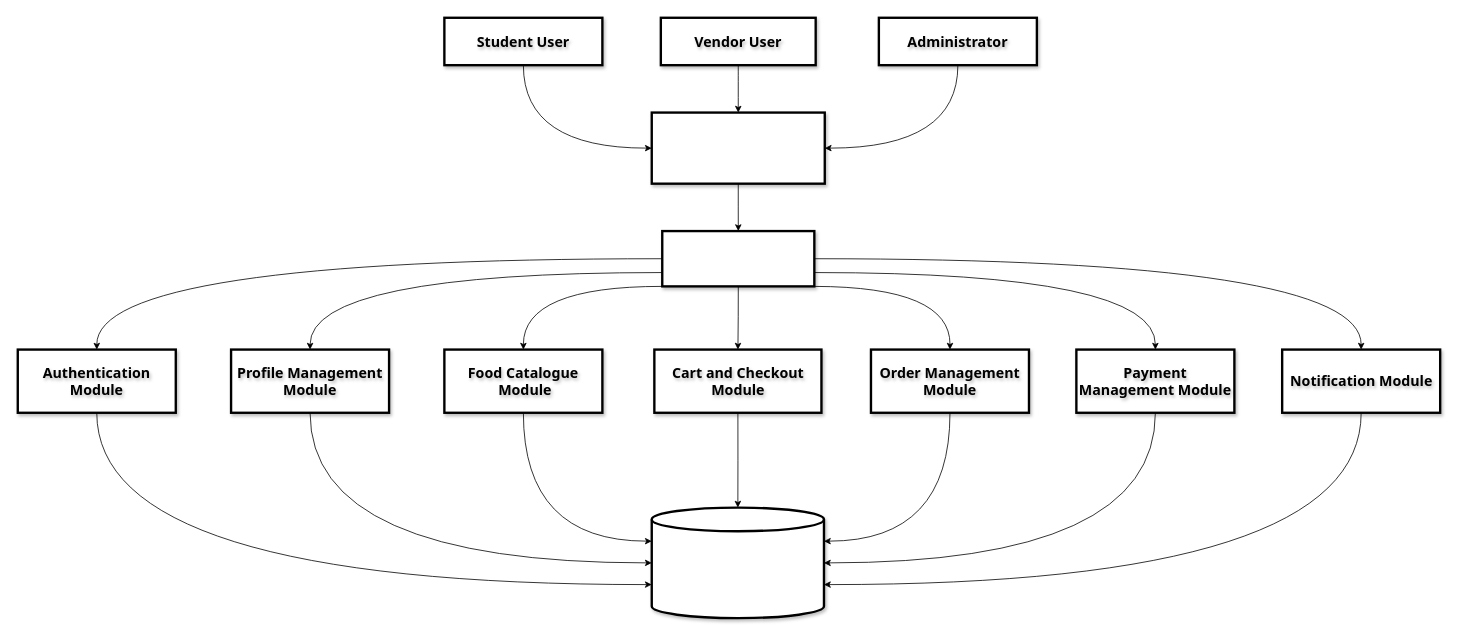
This 1460x638 diagram has some shape labels left out. The centre of each missing label's shape, as x and y in pixels:
Backend: Python: point 739,259
Database: MySQL: point 738,563
Frontend: HTML, CSS, JavaScript: point 738,149
